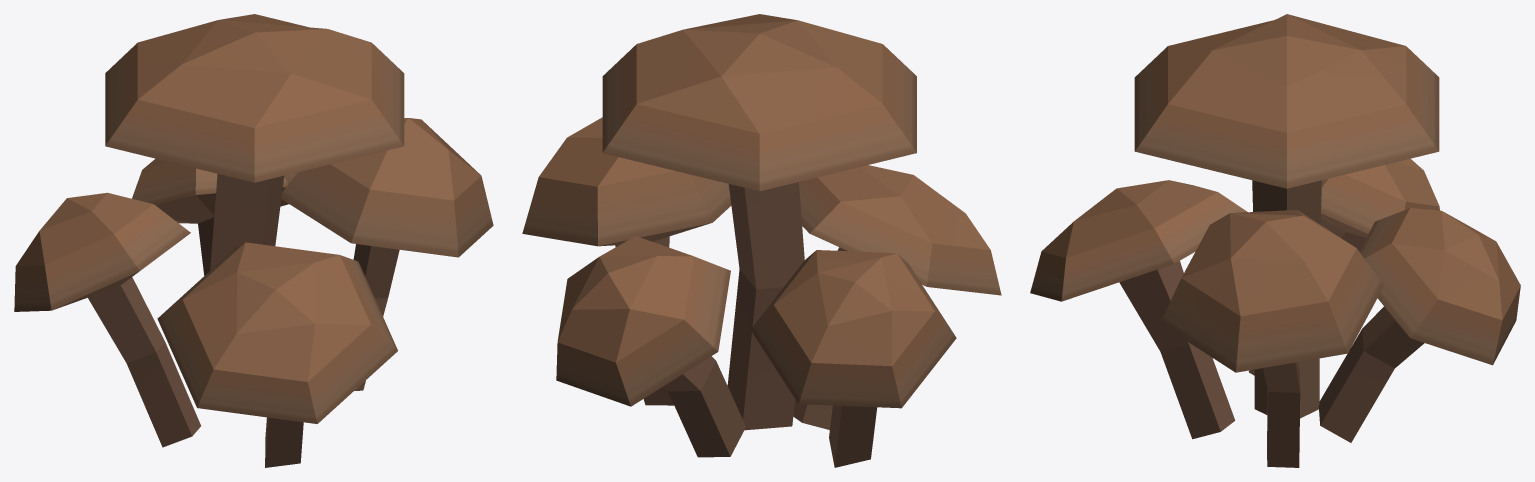
The model's file is mk_mushroom.glb.
The picture shows the model from 3 angles, left to right: view 1: azimuth 30°, elevation 25°; view 2: azimuth 150°, elevation 25°; view 3: azimuth 270°, elevation 25°; orthographic projection. The views are drawn at different scales.
Parts seen in each view (by area): view 1: SM_Prop_Mushroom_Group_02; view 2: SM_Prop_Mushroom_Group_02; view 3: SM_Prop_Mushroom_Group_02.
Boxes of the visible parts, x1,y1,x2,y2 form: SM_Prop_Mushroom_Group_02: (14,14,493,467); SM_Prop_Mushroom_Group_02: (522,14,1001,467); SM_Prop_Mushroom_Group_02: (1030,14,1520,467).
Size of the model in its own units: 0.4965 by 0.4635 by 0.507.
Materials: 1 (1 with a texture image).
